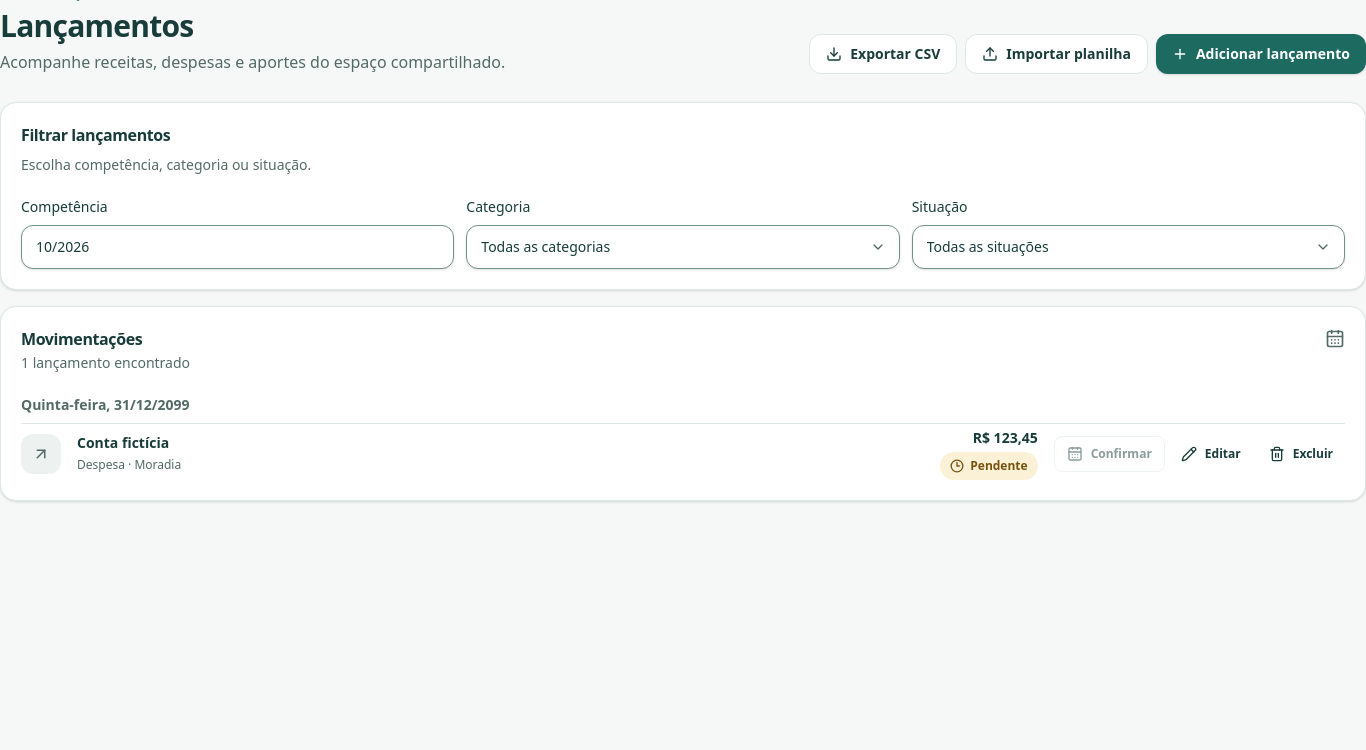
offline transaction workflow › edits and deletes cached entries offline with a persistent final operation per entry
Click the link with aria-label "Editar Conta fictícia" at (1211, 454), box left=1181, top=445, right=1241, bottom=462
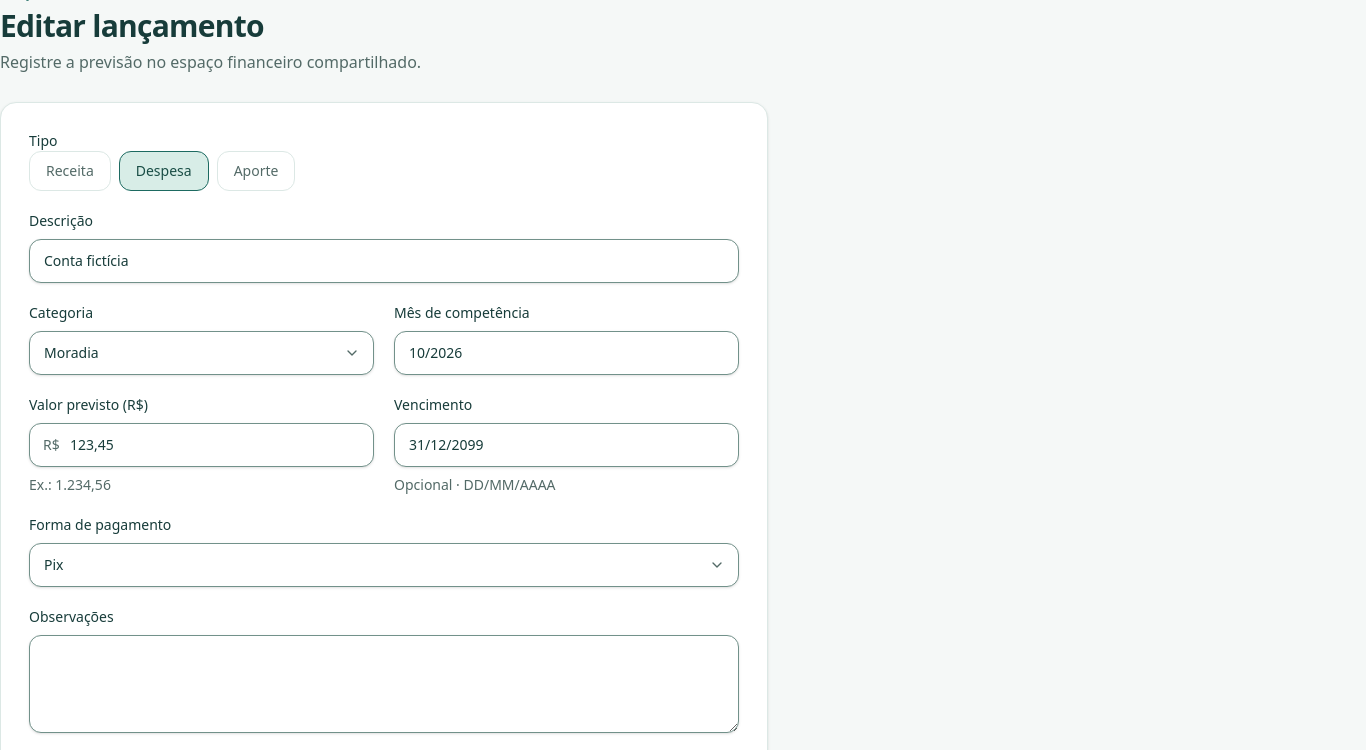
Replace the text in the field labelled "Descrição" with "Conta ajustada offline" at (384, 261), box left=29, top=239, right=739, bottom=283
(page scrolled)
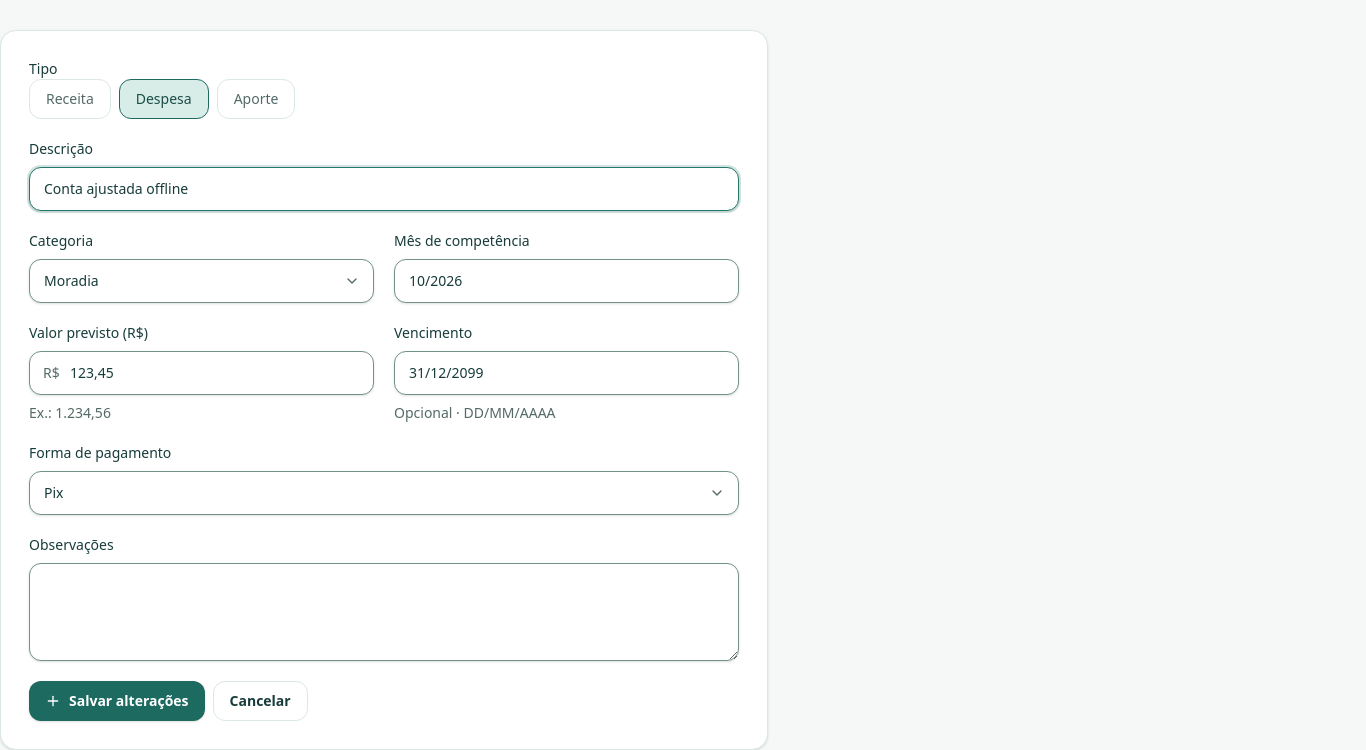
Click the button "Salvar alterações" at (117, 701), box left=29, top=681, right=205, bottom=721
(page scrolled)
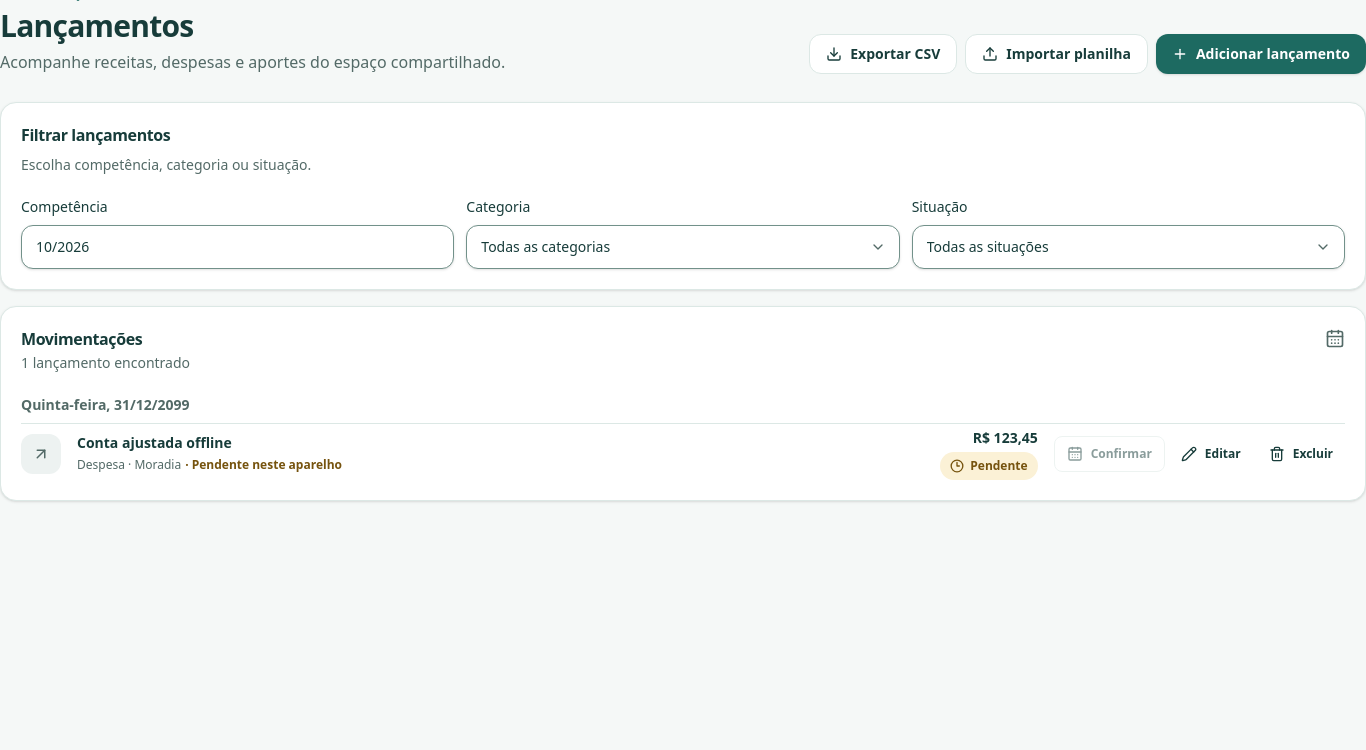
Expected: the text "Conta ajustada offline" is shown, left=77, top=433, right=232, bottom=452
Click the button with aria-label "Excluir Conta ajustada offline" at (1301, 454), box left=1257, top=436, right=1345, bottom=472
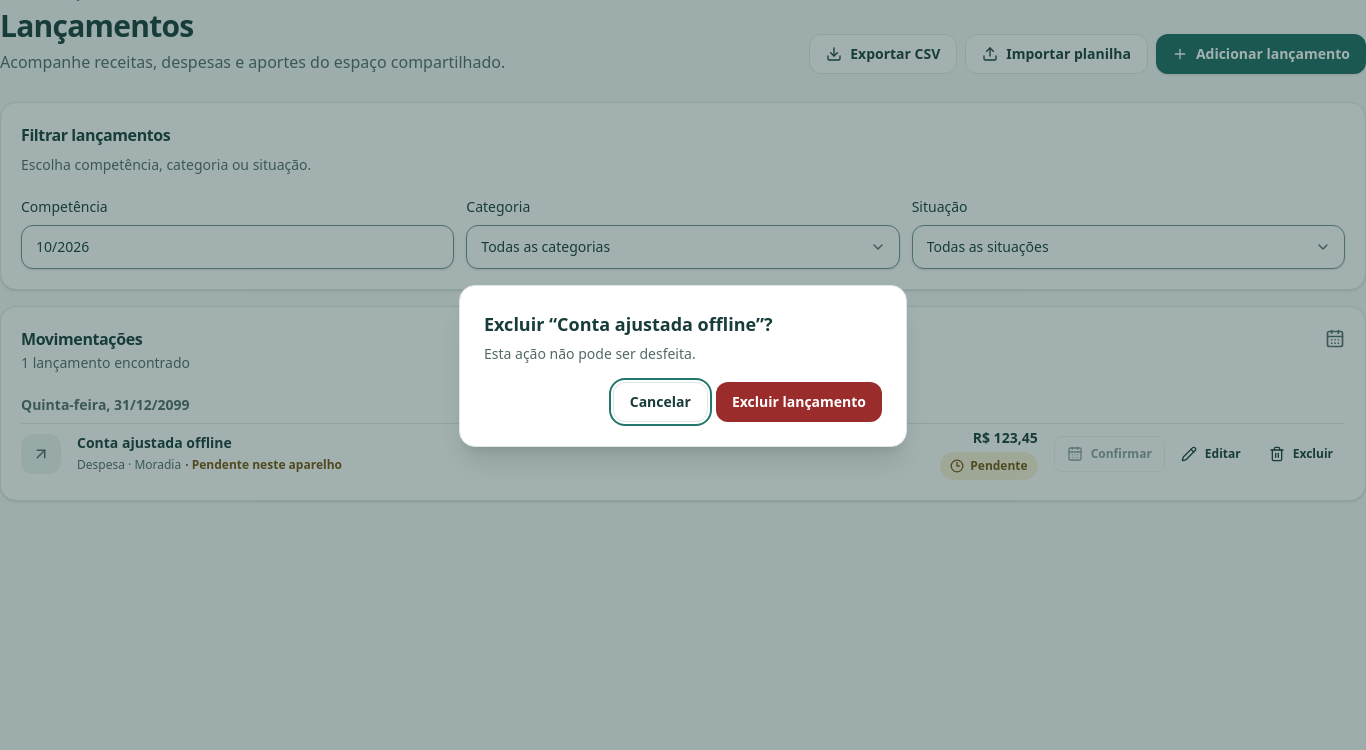
Click the button "Excluir lançamento" at (799, 402), box left=716, top=382, right=882, bottom=422
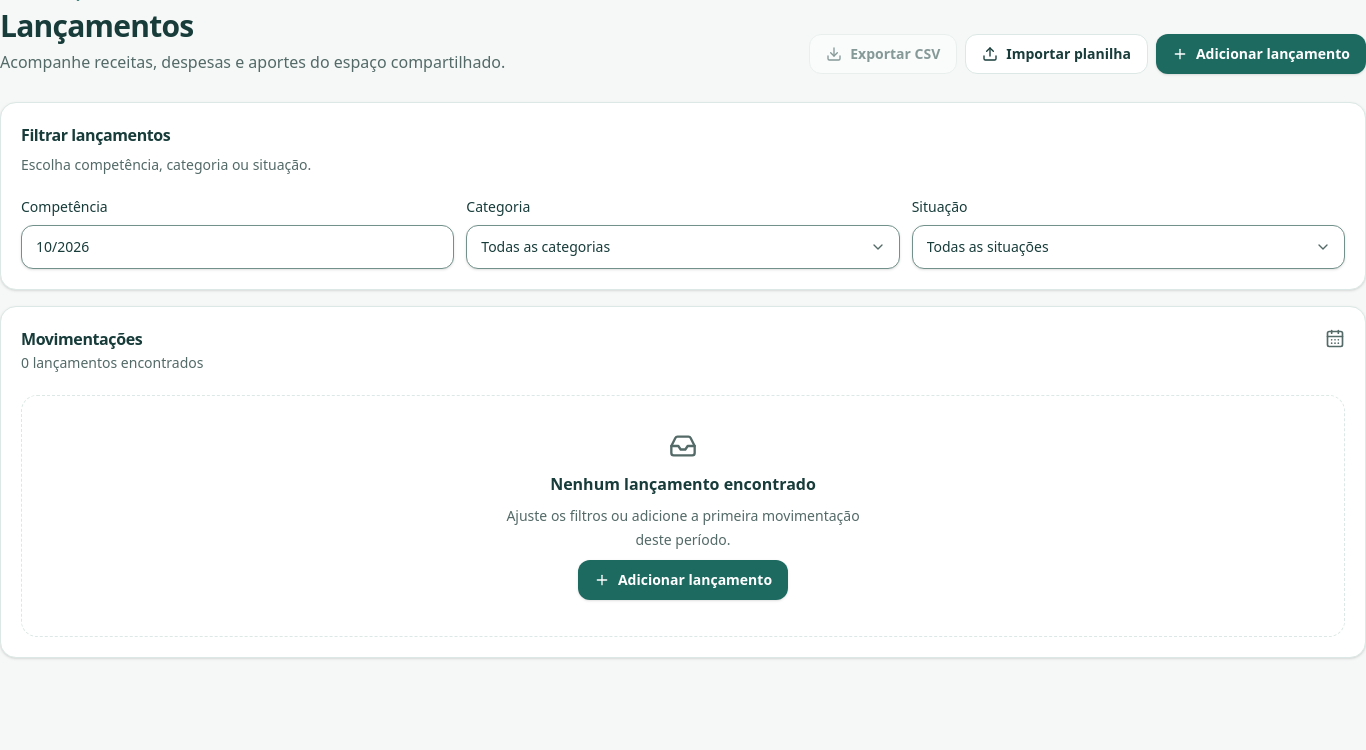
Expected: the text "Conta ajustada offline" is gone
